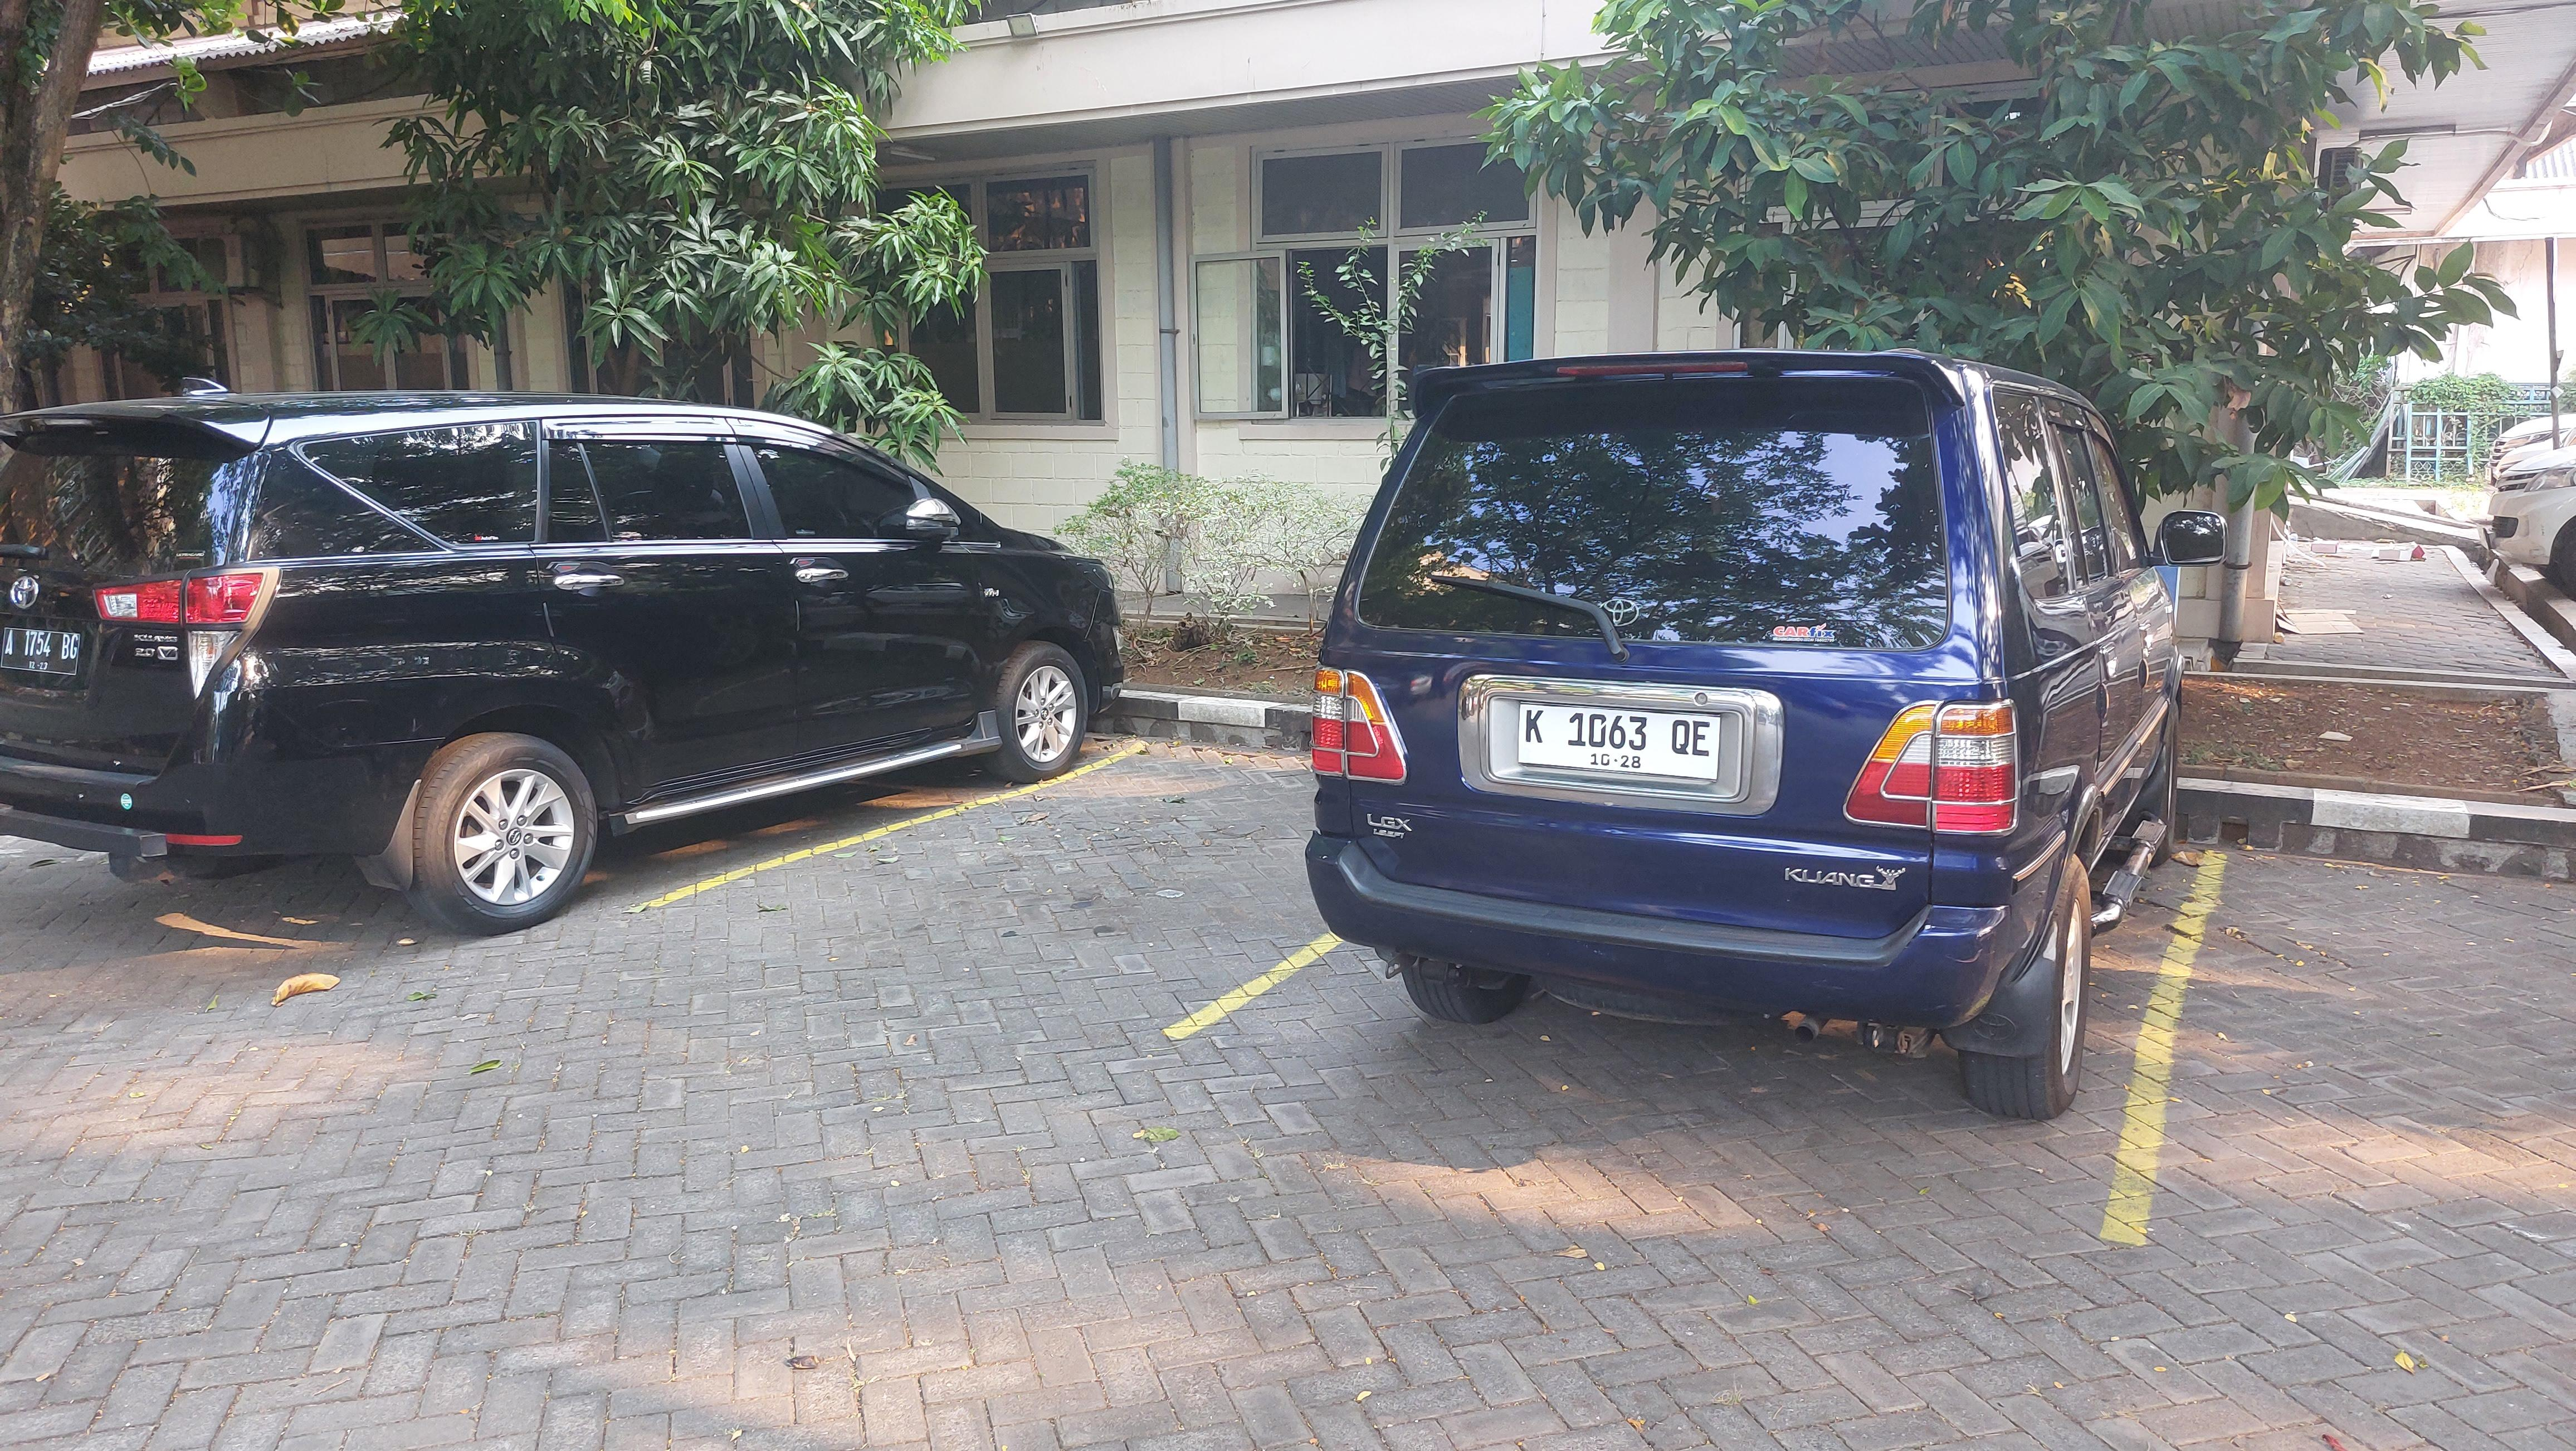empty: (640, 737, 1333, 1027), (2116, 849, 2576, 1280)
occupied: (1167, 354, 2211, 1234), (0, 393, 1167, 958)
